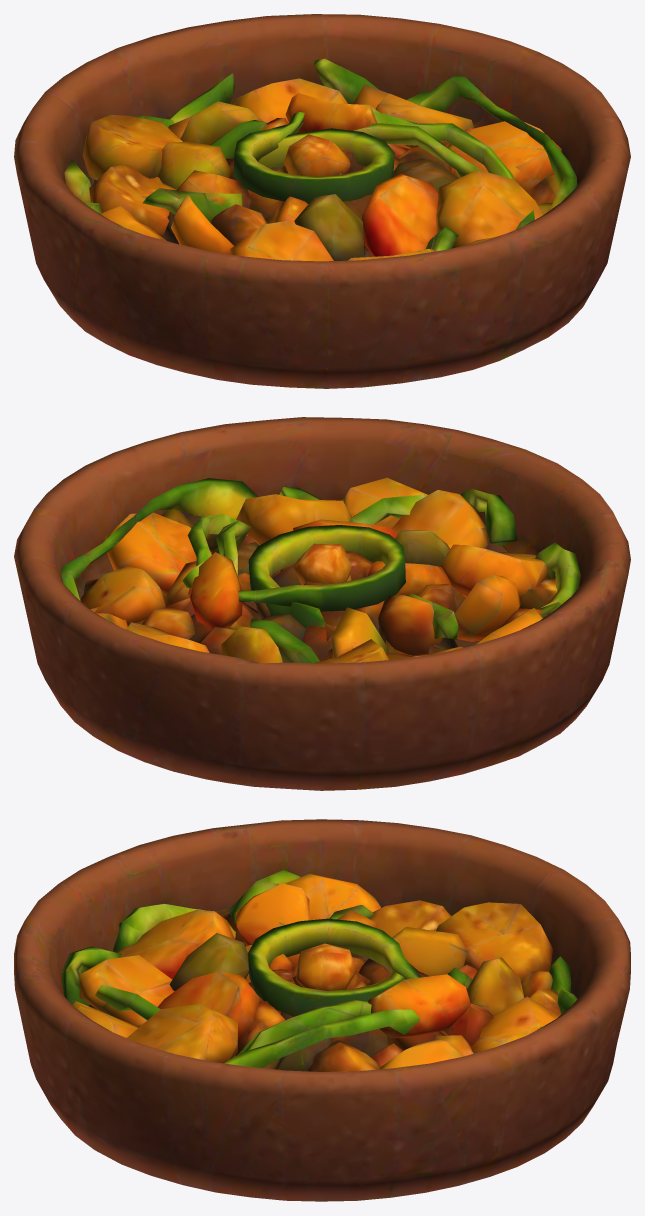
Rendered from pinakbet.glb.
3 views of the same model, one above another, from view 1: azimuth 30°, elevation 25°; view 2: azimuth 150°, elevation 25°; view 3: azimuth 270°, elevation 25° (orthographic).
Visible parts, largest first — view 1: geometry_0; view 2: geometry_0; view 3: geometry_0.
Part boxes in pixels (x1=…): geometry_0: x1=14, y1=14, x2=630, y2=388; geometry_0: x1=14, y1=417, x2=630, y2=790; geometry_0: x1=14, y1=819, x2=630, y2=1201.
Size of the model in its own units: 1 by 0.2446 by 1.
1 material, 1 textured.
